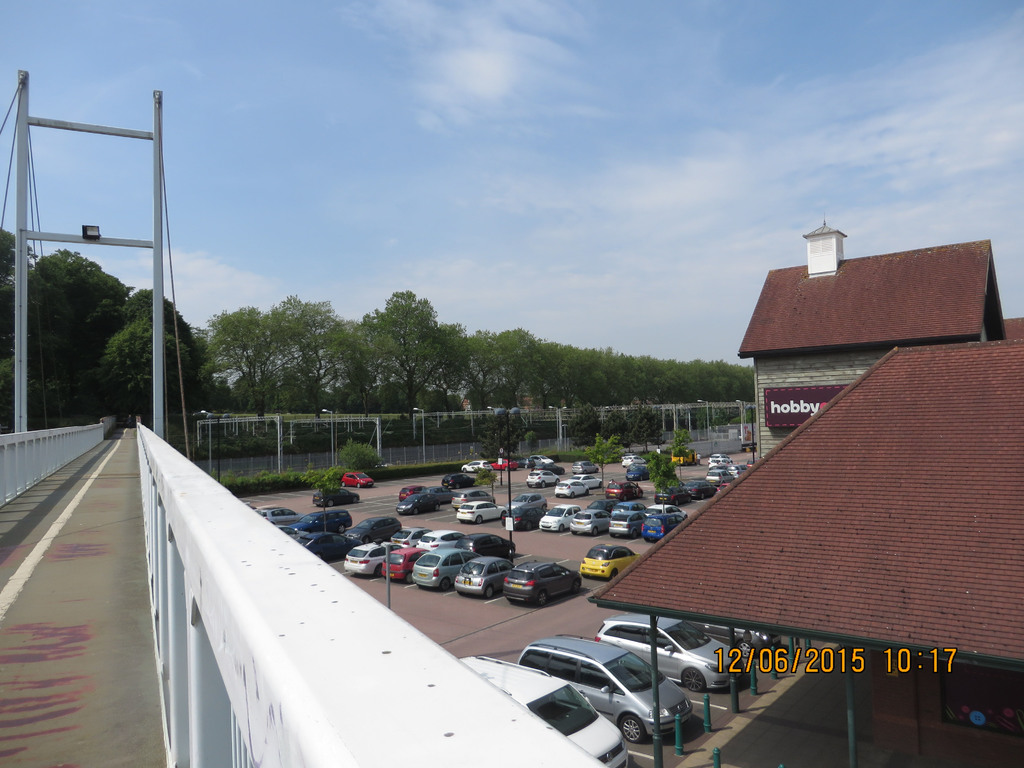Car: (251, 506, 576, 608), (510, 634, 695, 746), (451, 652, 628, 767), (390, 474, 681, 536), (656, 447, 748, 501), (574, 542, 635, 583), (315, 487, 361, 509), (339, 468, 371, 490), (659, 448, 700, 464), (458, 454, 489, 474), (619, 451, 649, 471), (568, 456, 599, 471), (627, 463, 648, 484), (495, 454, 517, 468), (521, 454, 544, 462)
